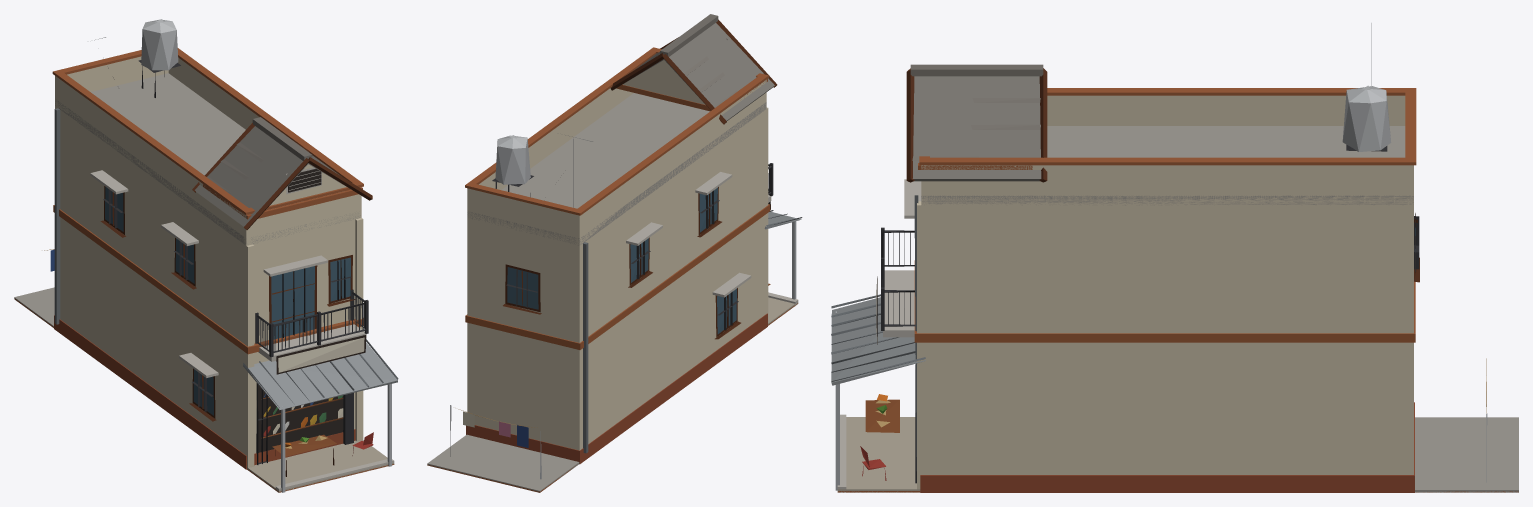
File: bay1_left.glb
3 renders of one model, left to right at view 1: azimuth 30°, elevation 25°; view 2: azimuth 150°, elevation 25°; view 3: azimuth 270°, elevation 25°, orthographic. The views are drawn at different scales.
Parts seen in each view (by area): view 1: body, windows; view 2: body, windows; view 3: body.
Part boxes in pixels (box(x1,y1,x2,y2)): body: box(14, 19, 398, 492); windows: box(105, 169, 350, 452); body: box(427, 14, 802, 492); windows: box(507, 187, 736, 334); body: box(831, 23, 1518, 492).
Size of the model in its own units: 4.66 by 10.66 by 16.06.
